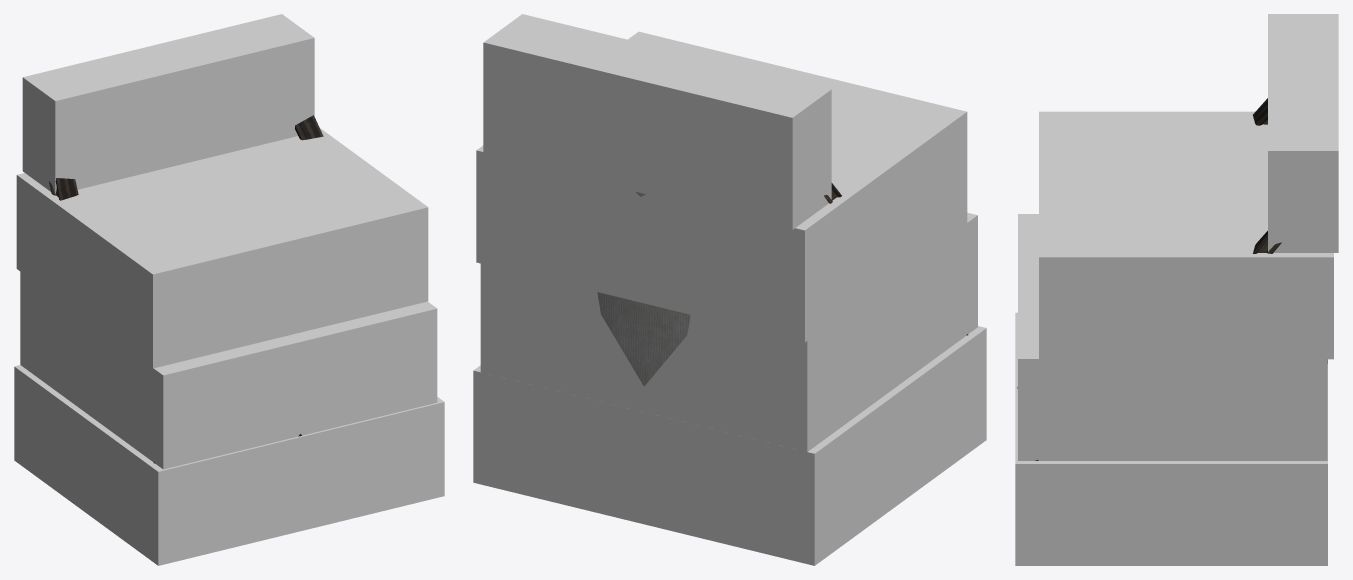
File: upholstered_armchair.glb
The picture shows the model from 3 angles, left to right: view 1: azimuth 30°, elevation 25°; view 2: azimuth 150°, elevation 25°; view 3: azimuth 270°, elevation 25°; orthographic projection. The views are drawn at different scales.
Parts seen in each view (by area): view 1: ArmChair_01_COL, ArmChair_01; view 2: ArmChair_01_COL, ArmChair_01; view 3: ArmChair_01_COL, ArmChair_01.
Boxes of the visible parts, left/top/right/bottom form: ArmChair_01_COL: left=14, top=14, right=444, bottom=565; ArmChair_01: left=49, top=115, right=323, bottom=463; ArmChair_01_COL: left=473, top=14, right=986, bottom=565; ArmChair_01: left=597, top=183, right=968, bottom=386; ArmChair_01_COL: left=1015, top=14, right=1338, bottom=565; ArmChair_01: left=1017, top=98, right=1327, bottom=460.
Size of the model in its own units: 0.8484 by 1.07 by 0.7658.
1 material, 1 textured.
